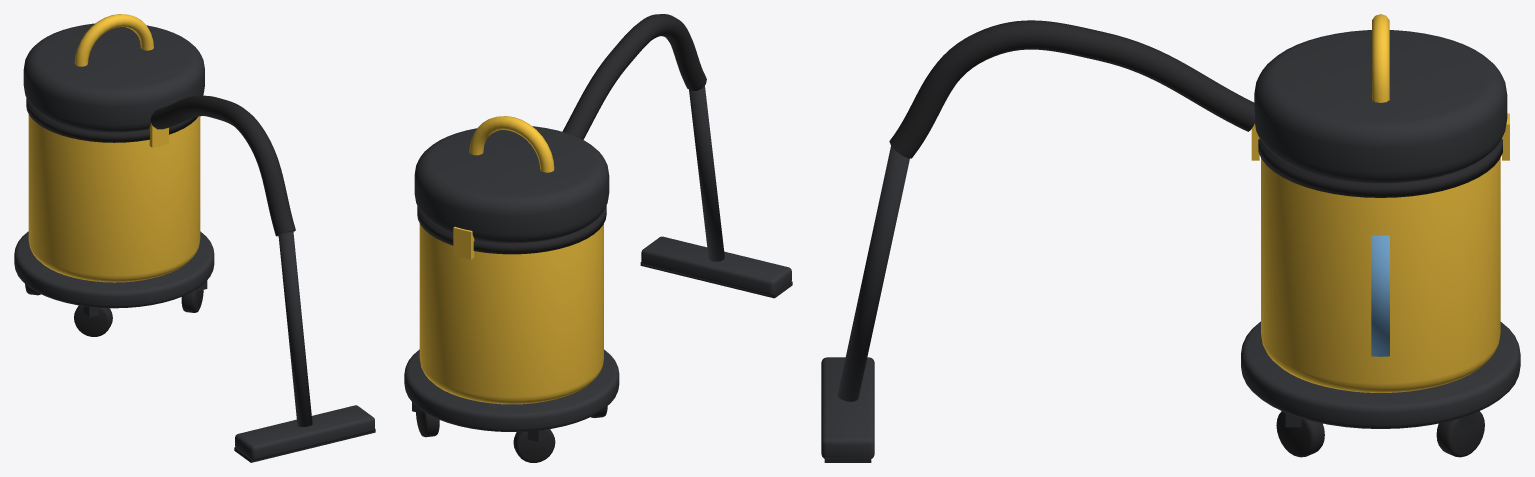
Rendered from AspirateurEau.fbx.
3 views of the same model, side by side, from view 1: azimuth 30°, elevation 25°; view 2: azimuth 150°, elevation 25°; view 3: azimuth 270°, elevation 25° (orthographic). The views are drawn at different scales.
Parts seen in each view (by area): view 1: Aspi_Tank, Aspi_MotorHead, Aspi_Dolly, Aspi_Hose, Aspi_FloorNozzle, Aspi_Wand, Aspi_SealRing, Aspi_CarryHandle, Aspi_Caster2, Aspi_Caster3; view 2: Aspi_Tank, Aspi_MotorHead, Aspi_Dolly, Aspi_Hose, Aspi_FloorNozzle, Aspi_Wand, Aspi_SealRing, Aspi_CarryHandle, Aspi_Caster1, Aspi_Clip_L, Aspi_Caster0; view 3: Aspi_Tank, Aspi_MotorHead, Aspi_Hose, Aspi_Dolly, Aspi_Wand, Aspi_FloorNozzle, Aspi_SealRing, Aspi_LevelWindow, Aspi_CarryHandle, Aspi_Caster0, Aspi_Caster3.
Boxes of the visible parts, bbox=[...] form: Aspi_Tank: bbox=[28, 114, 200, 282]; Aspi_MotorHead: bbox=[23, 23, 204, 132]; Aspi_Dolly: bbox=[14, 231, 214, 308]; Aspi_Hose: bbox=[150, 95, 295, 236]; Aspi_FloorNozzle: bbox=[235, 405, 374, 460]; Aspi_Wand: bbox=[278, 231, 312, 426]; Aspi_SealRing: bbox=[26, 98, 197, 142]; Aspi_CarryHandle: bbox=[74, 14, 153, 66]; Aspi_Caster2: bbox=[74, 305, 112, 336]; Aspi_Caster3: bbox=[181, 289, 203, 312]; Aspi_Tank: bbox=[419, 224, 603, 404]; Aspi_MotorHead: bbox=[414, 126, 609, 243]; Aspi_Dolly: bbox=[404, 349, 619, 431]; Aspi_Hose: bbox=[562, 14, 706, 139]; Aspi_FloorNozzle: bbox=[641, 236, 791, 295]; Aspi_Wand: bbox=[689, 86, 724, 261]; Aspi_SealRing: bbox=[417, 205, 606, 254]; Aspi_CarryHandle: bbox=[469, 116, 554, 172]; Aspi_Caster1: bbox=[513, 429, 555, 462]; Aspi_Clip_L: bbox=[453, 227, 474, 259]; Aspi_Caster0: bbox=[416, 411, 439, 437]; Aspi_Tank: bbox=[1261, 158, 1500, 392]; Aspi_MotorHead: bbox=[1254, 30, 1507, 183]; Aspi_Hose: bbox=[889, 20, 1254, 158]; Aspi_Dolly: bbox=[1241, 321, 1520, 428]; Aspi_Wand: bbox=[837, 146, 909, 401]; Aspi_FloorNozzle: bbox=[821, 357, 874, 458]; Aspi_SealRing: bbox=[1258, 138, 1502, 197]; Aspi_LevelWindow: bbox=[1371, 235, 1389, 356]; Aspi_CarryHandle: bbox=[1372, 14, 1389, 102]; Aspi_Caster0: bbox=[1436, 411, 1484, 457]; Aspi_Caster3: bbox=[1276, 411, 1324, 457].
Bounding box in the file's own units: 0.42 × 0.664 × 1.05.
